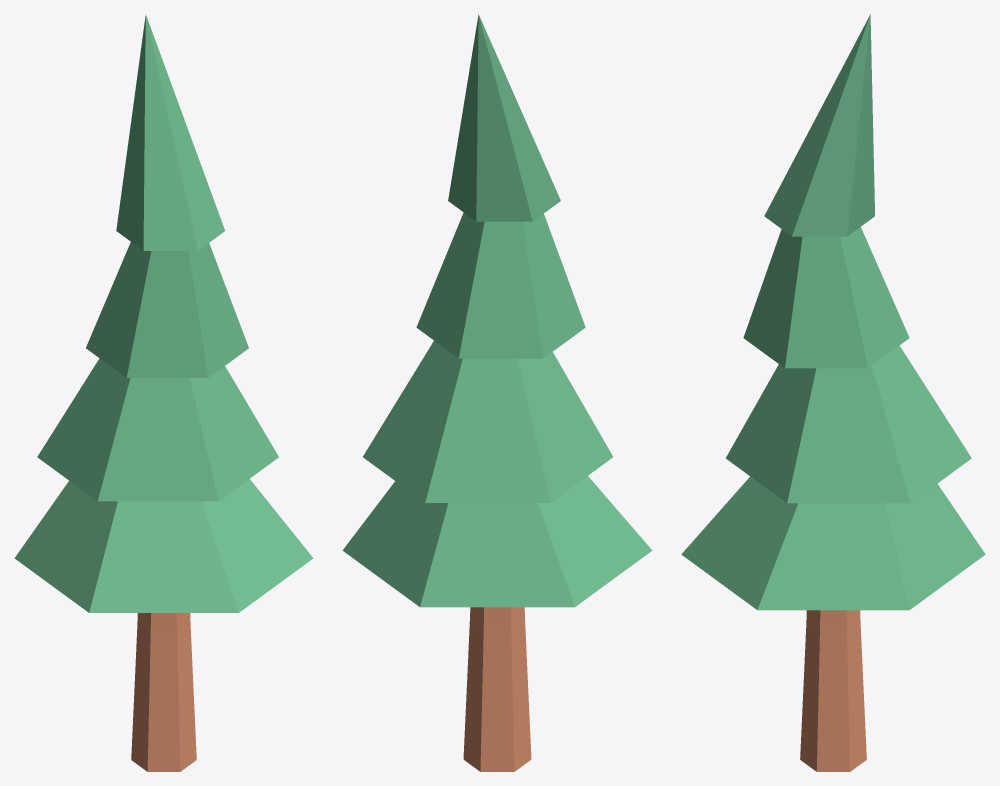
The model's file is Pine_6.obj.
3 views of the same model, side by side, from view 1: azimuth 30°, elevation 25°; view 2: azimuth 150°, elevation 25°; view 3: azimuth 270°, elevation 25° (orthographic). The views are drawn at different scales.
Parts seen in each view (by area): view 1: Pine_6; view 2: Pine_6; view 3: Pine_6.
Part boxes in pixels (bbox=[...]): Pine_6: bbox=[14, 14, 313, 771]; Pine_6: bbox=[342, 14, 652, 771]; Pine_6: bbox=[681, 14, 985, 771].
Size of the model in its own units: 3.75 by 11.69 by 4.33.
